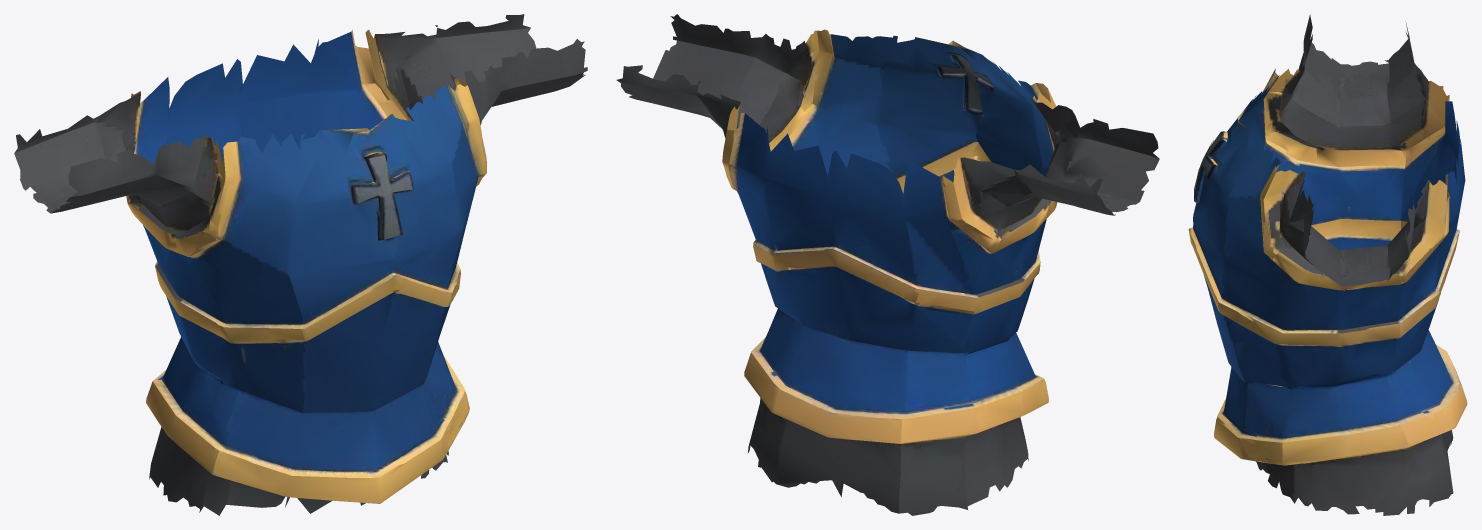
The model's file is templar_chest.glb.
The picture shows the model from 3 angles, left to right: view 1: azimuth 30°, elevation 25°; view 2: azimuth 150°, elevation 25°; view 3: azimuth 270°, elevation 25°; orthographic projection. The views are drawn at different scales.
Parts seen in each view (by area): view 1: chest; view 2: chest; view 3: chest.
Boxes of the visible parts, box(x1,y1,x2,y2) form: chest: box(14, 14, 587, 515); chest: box(616, 14, 1159, 515); chest: box(1188, 14, 1467, 515).
Bounding box in the file's own units: 0.6397 × 0.4713 × 0.3384.
Materials: 1 (1 with a texture image).
